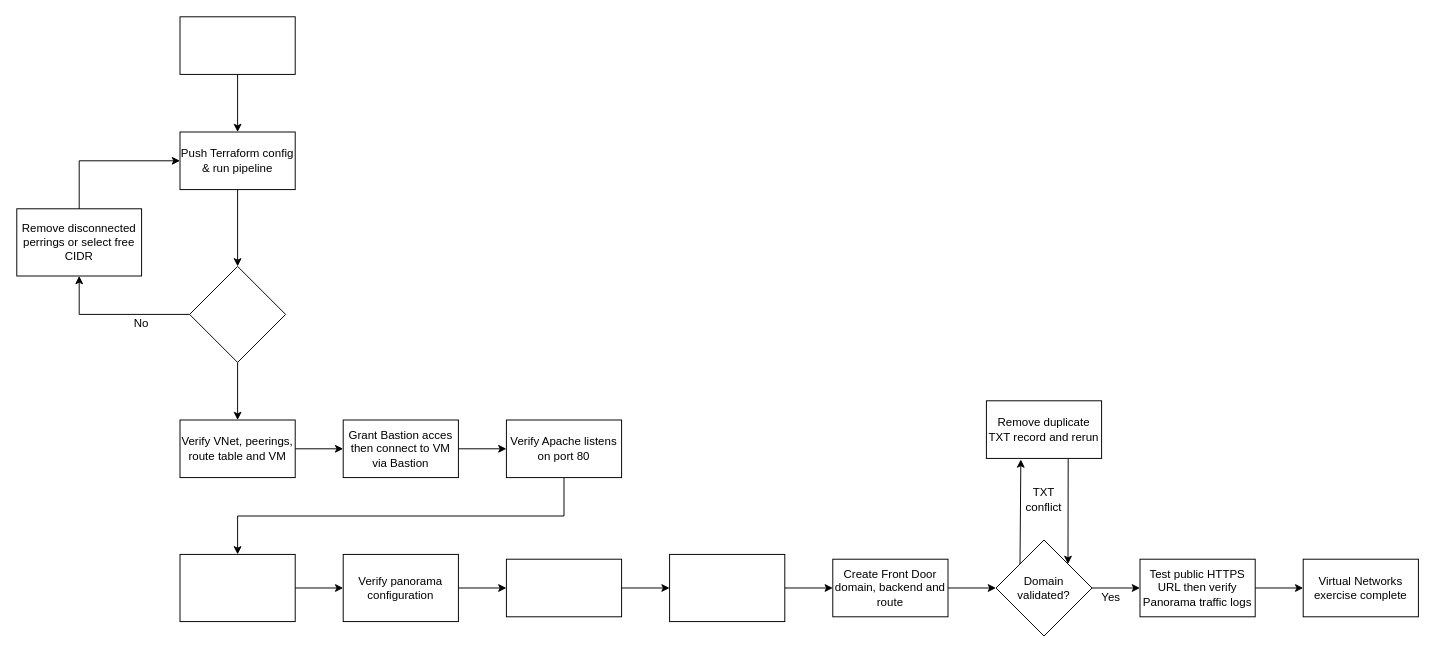
This 1435x653 diagram has some shape labels left out. Each missing label, with the centre of its shape:
"Create Azure Firewall DNAT rule" goes at (563,587).
"Create Panorama address object and policy then add to G_trusted" goes at (237,587).
"Deployment successful" goes at (237,313).
"Select sandbox subscription" goes at (237,45).
"Verify public IP and default DNS then create public DNS CNAME" goes at (727,587).
